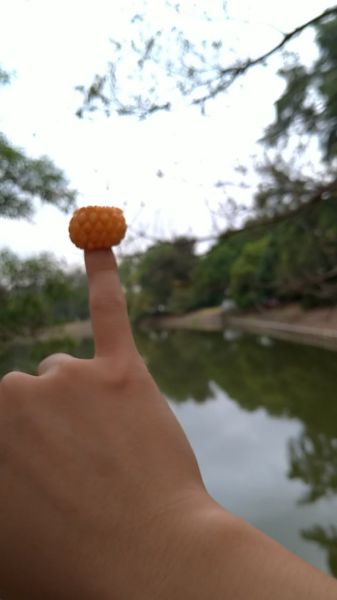eggs: (67, 207, 127, 250)
